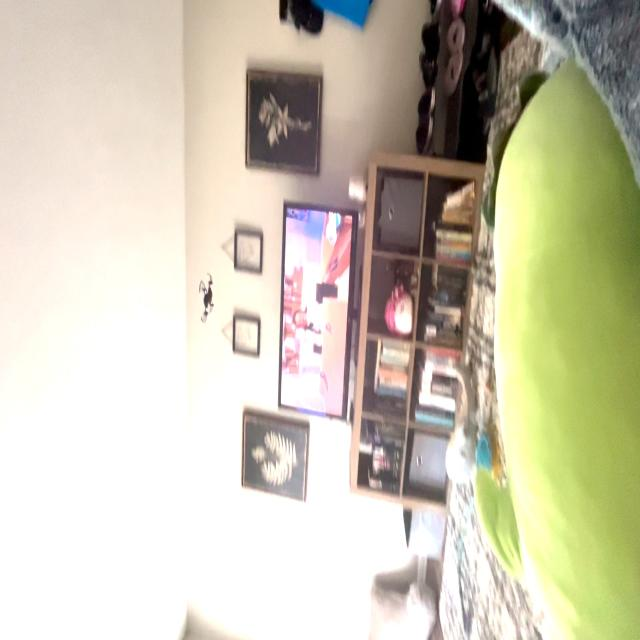drone: (191, 262, 221, 340)
